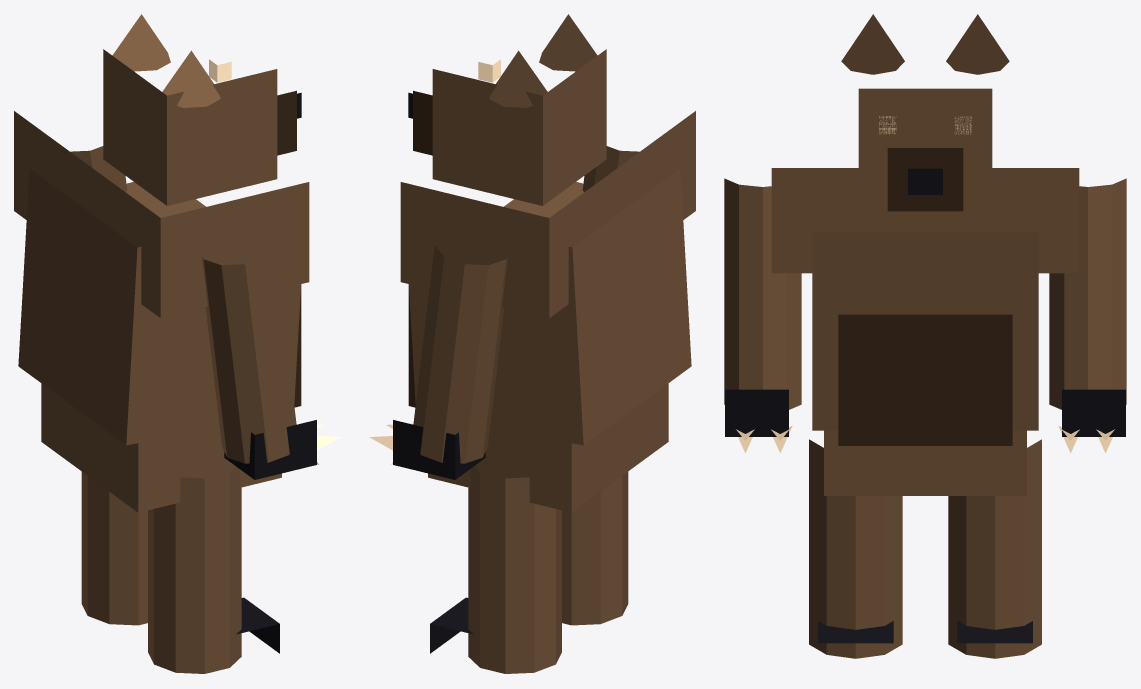
Rendered from bear.glb.
The picture shows the model from 3 angles, left to right: view 1: azimuth 30°, elevation 25°; view 2: azimuth 150°, elevation 25°; view 3: azimuth 270°, elevation 25°; orthographic projection. The views are drawn at different scales.
Parts seen in each view (by area): view 1: bear-torso, bear-shoulders, bear-head, bear-leg-l, bear-arm-l, bear-hips, bear-leg-r, bear-paw-l, bear-ear-r, bear-ear-l, bear-foot-l, bear-snout (+2 smaller); view 2: bear-torso, bear-shoulders, bear-head, bear-leg-r, bear-arm-r, bear-hips, bear-leg-l, bear-paw-r, bear-ear-l, bear-ear-r, bear-foot-r, bear-snout (+2 smaller); view 3: bear-torso, bear-belly, bear-shoulders, bear-leg-l, bear-leg-r, bear-arm-l, bear-arm-r, bear-head, bear-hips, bear-snout, bear-paw-l, bear-paw-r (+5 smaller).
Boxes of the visible parts, left/top/right/bottom form: bear-torso: left=18, top=169, right=301, bottom=445; bear-shoulders: left=14, top=111, right=309, bottom=318; bear-head: left=103, top=49, right=277, bottom=205; bear-leg-l: left=148, top=466, right=241, bottom=673; bear-arm-l: left=202, top=245, right=296, bottom=463; bear-hips: left=41, top=383, right=281, bottom=512; bear-leg-r: left=81, top=472, right=147, bottom=625; bear-paw-l: left=224, top=420, right=316, bottom=479; bear-ear-r: left=112, top=14, right=170, bottom=71; bear-ear-l: left=162, top=50, right=220, bottom=107; bear-foot-l: left=236, top=597, right=279, bottom=653; bear-snout: left=277, top=90, right=296, bottom=155; bear-torso: left=408, top=169, right=691, bottom=445; bear-shoulders: left=400, top=111, right=695, bottom=318; bear-head: left=432, top=49, right=606, bottom=205; bear-leg-r: left=468, top=466, right=561, bottom=673; bear-arm-r: left=413, top=245, right=507, bottom=463; bear-hips: left=428, top=383, right=668, bottom=512; bear-leg-l: left=562, top=472, right=628, bottom=625; bear-paw-r: left=393, top=420, right=485, bottom=479; bear-ear-l: left=539, top=14, right=597, bottom=71; bear-ear-r: left=489, top=50, right=547, bottom=107; bear-foot-r: left=430, top=597, right=473, bottom=653; bear-snout: left=413, top=90, right=432, bottom=155; bear-torso: left=812, top=231, right=1038, bottom=430; bear-belly: left=838, top=314, right=1012, bottom=445; bear-shoulders: left=771, top=168, right=1079, bottom=273; bear-leg-l: left=809, top=439, right=902, bottom=658; bear-leg-r: left=948, top=439, right=1041, bottom=658; bear-arm-l: left=724, top=178, right=801, bottom=409; bear-arm-r: left=1049, top=178, right=1126, bottom=409; bear-head: left=858, top=88, right=992, bottom=204; bear-hips: left=824, top=430, right=1026, bottom=495; bear-snout: left=887, top=148, right=963, bottom=211; bear-paw-l: left=725, top=389, right=788, bottom=436; bear-paw-r: left=1062, top=389, right=1125, bottom=436.
Bounding box in the file's own units: 0.9228 × 2.39 × 1.39.
